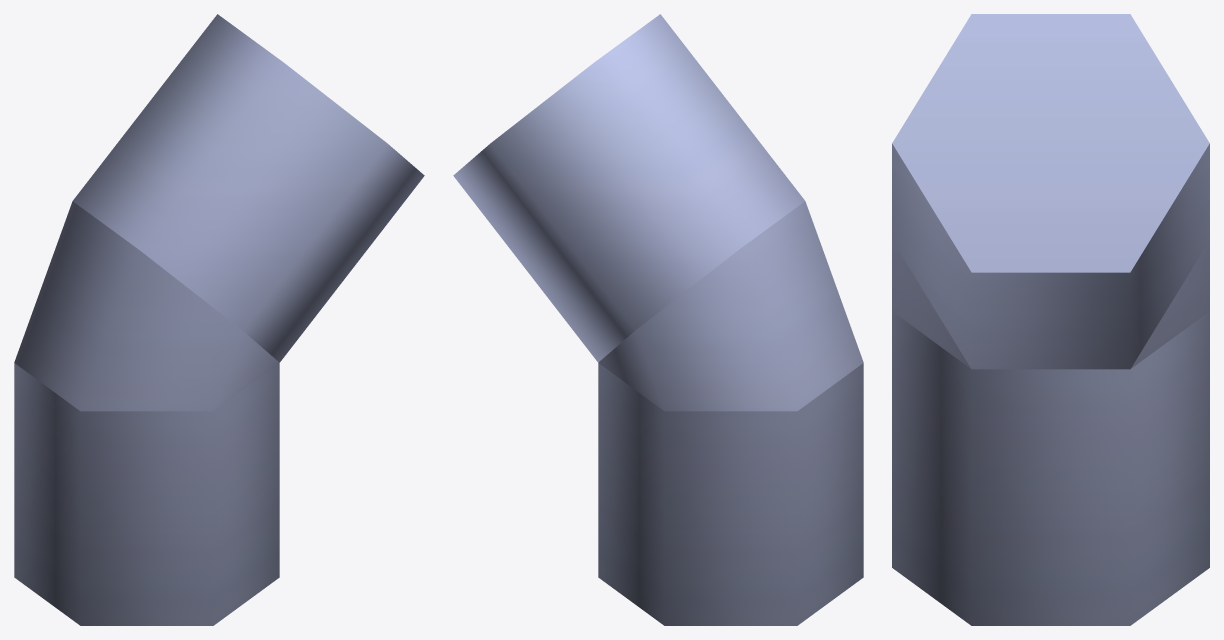
File: kenney-space-station-pipe-bend-diagonal.glb
The picture shows the model from 3 angles, left to right: view 1: azimuth 30°, elevation 25°; view 2: azimuth 150°, elevation 25°; view 3: azimuth 270°, elevation 25°; orthographic projection. The views are drawn at different scales.
Parts seen in each view (by area): view 1: pipe-bend-diagonal; view 2: pipe-bend-diagonal; view 3: pipe-bend-diagonal.
Part boxes in pixels (left/top/right/bottom): pipe-bend-diagonal: left=14, top=14, right=424, bottom=625; pipe-bend-diagonal: left=453, top=14, right=863, bottom=625; pipe-bend-diagonal: left=892, top=14, right=1209, bottom=625.
Bounding box in the file's own units: 0.4257 × 0.6071 × 0.2846.
1 material, 1 textured.
